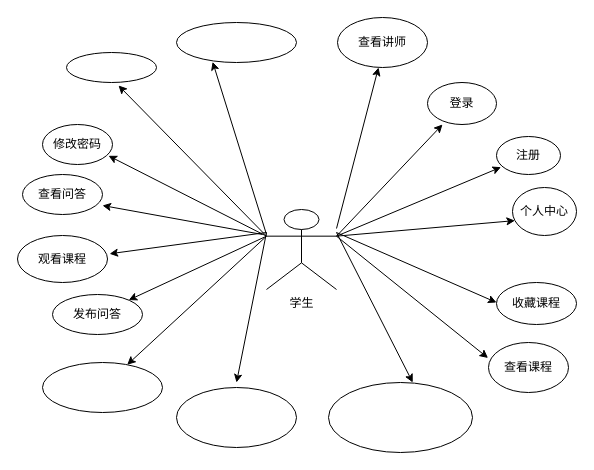
Some shapes in this 594 by 470 pixel diagram are drawn without their labels. The centre of each missing label's shape, as x and y in pixels:
修改头像、基本资料: pixel 236 42
文章、问答的点赞: pixel 236 417
查看文章: pixel 111 67
查看问答回复（别人回复我的，我回复别人的）: pixel 400 417
评论问答、课程、文章: pixel 102 387
